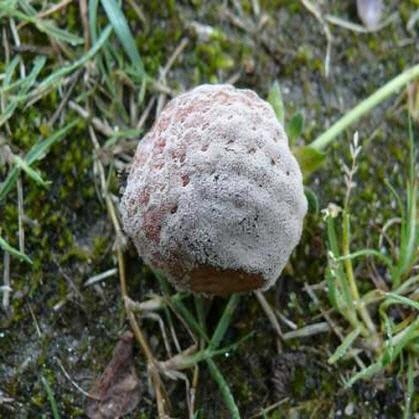Gray Mold: (117, 83, 310, 294)
